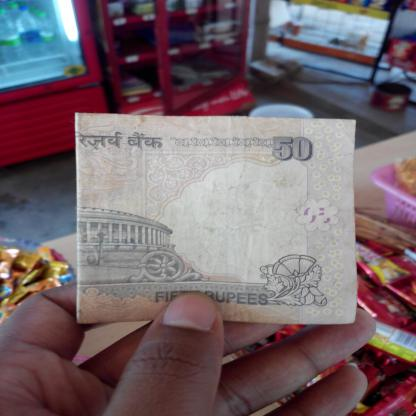Old50Back: (75, 112, 358, 324)
